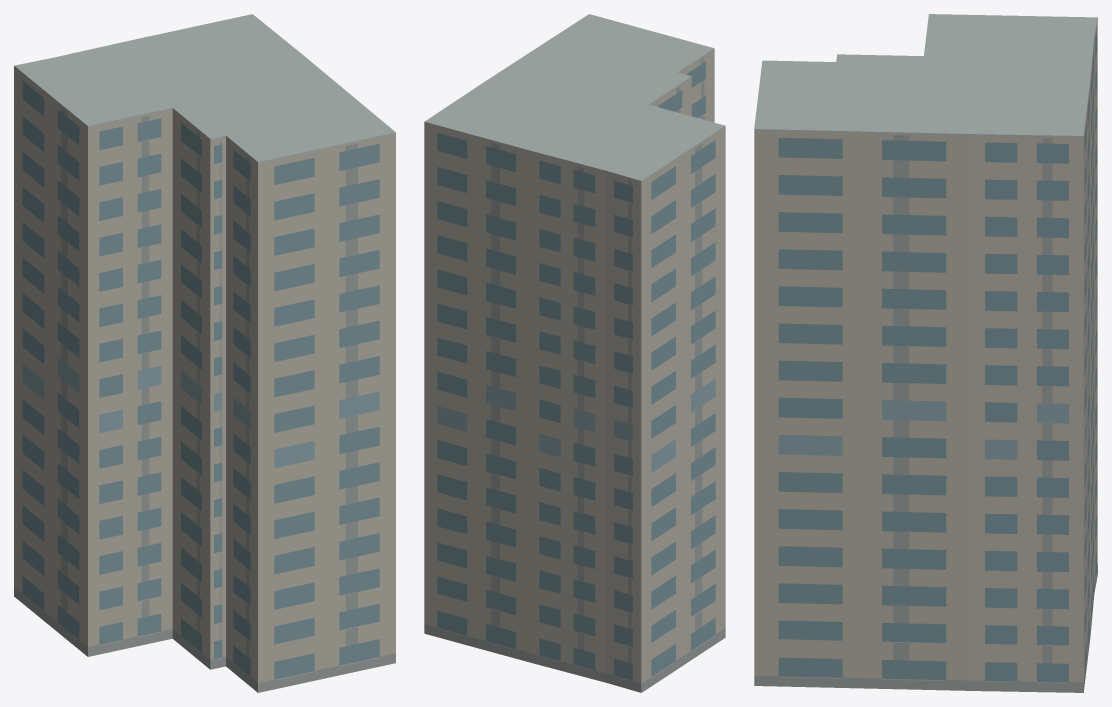
The model's file is residential-32f3b8a6-b3d7-4409-a836-996234034547.glb.
The picture shows the model from 3 angles, left to right: view 1: azimuth 30°, elevation 25°; view 2: azimuth 150°, elevation 25°; view 3: azimuth 270°, elevation 25°; orthographic projection. The views are drawn at different scales.
Parts seen in each view (by area): view 1: residential-32f3b8a6-b3d7-4409-a836-996234034547.tmp; view 2: residential-32f3b8a6-b3d7-4409-a836-996234034547.tmp; view 3: residential-32f3b8a6-b3d7-4409-a836-996234034547.tmp.
Part boxes in pixels (x1,y1,x2,y2): residential-32f3b8a6-b3d7-4409-a836-996234034547.tmp: (14,14,395,692); residential-32f3b8a6-b3d7-4409-a836-996234034547.tmp: (424,14,725,692); residential-32f3b8a6-b3d7-4409-a836-996234034547.tmp: (754,14,1097,692).
Size of the model in its own units: 21.63 by 46 by 25.74.
